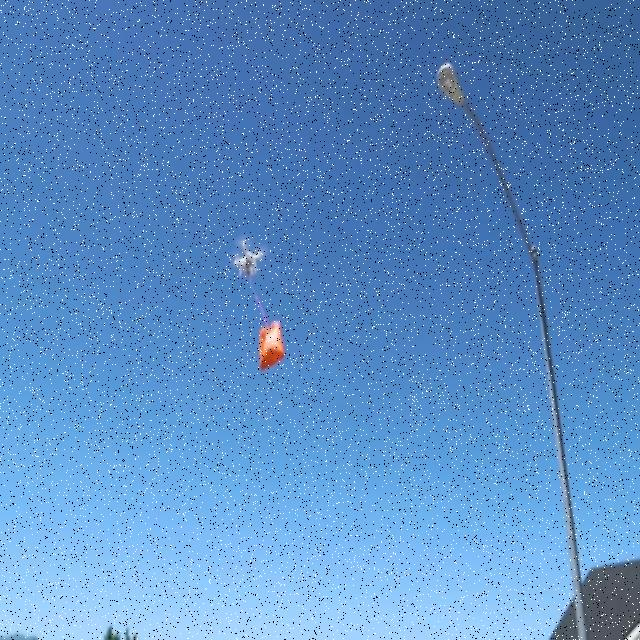UAV: (234, 238, 262, 282)
